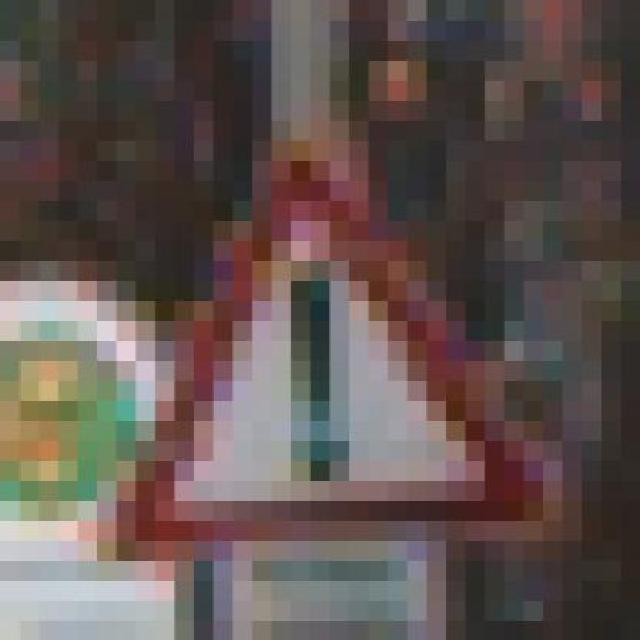Attention Please-: (58, 160, 562, 580)
